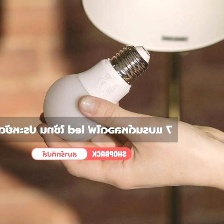light_bulb: (38, 41, 154, 144)
